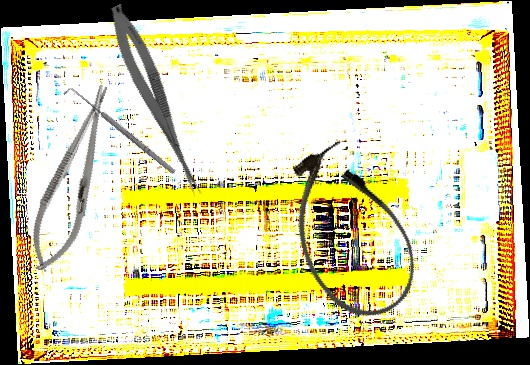Cannula: (266, 130, 434, 334)
Hook Surgical: (63, 83, 178, 180)
Micro Scissor: (100, 1, 214, 200)
Needle Holder: (18, 78, 129, 279)
